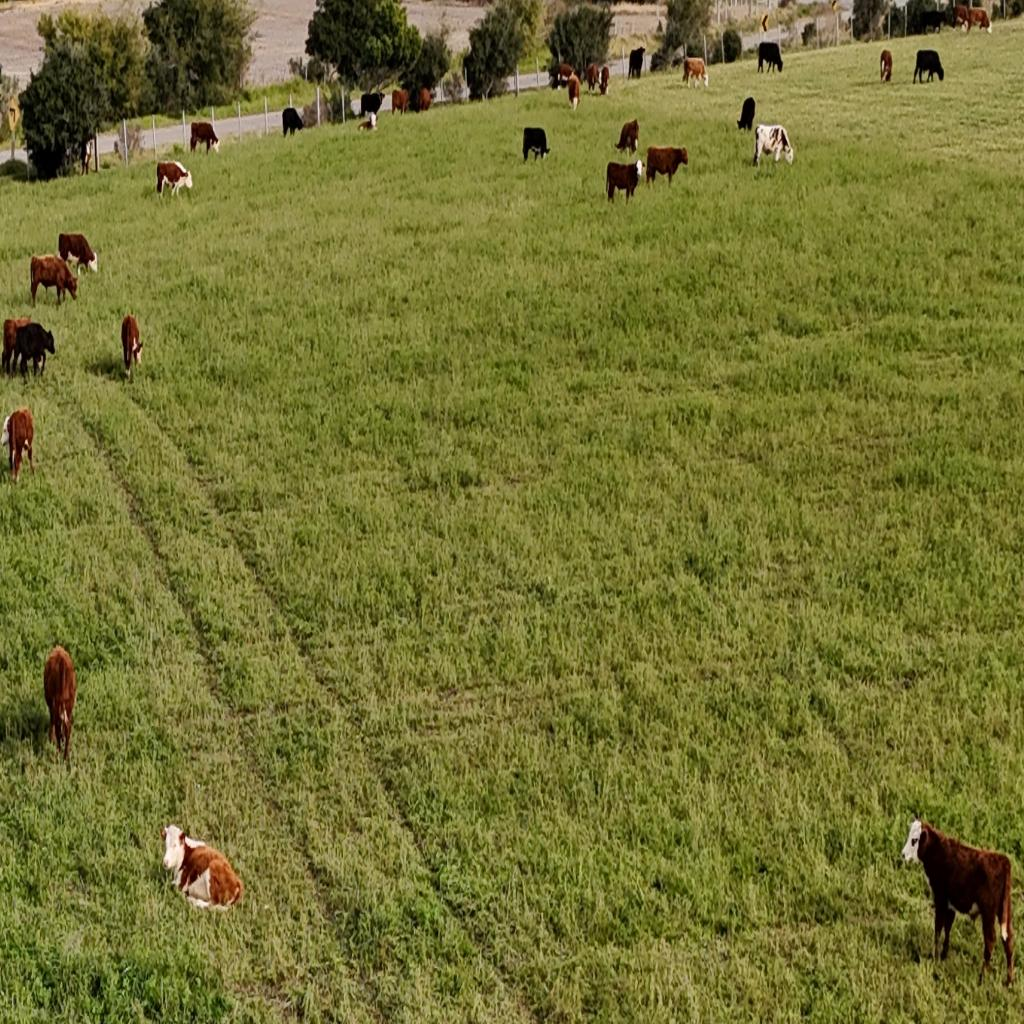cow: (899, 813, 1020, 993), (160, 821, 244, 911), (43, 644, 76, 762), (30, 251, 80, 309), (1, 406, 35, 486), (14, 322, 56, 384), (57, 229, 99, 275), (118, 312, 145, 382), (753, 124, 795, 168), (645, 146, 688, 188), (607, 160, 645, 205), (156, 160, 194, 201), (189, 121, 220, 155), (913, 49, 943, 84), (522, 126, 550, 163), (614, 119, 640, 155), (756, 41, 782, 75), (360, 90, 385, 124), (682, 57, 708, 89), (966, 9, 994, 35), (918, 8, 947, 33), (736, 96, 756, 132), (282, 107, 304, 138), (554, 62, 580, 87), (80, 135, 94, 177), (628, 47, 645, 79), (391, 88, 409, 116), (950, 4, 968, 30), (880, 48, 892, 84), (585, 62, 599, 92), (417, 87, 432, 113), (599, 66, 611, 98), (190, 136, 199, 153)
